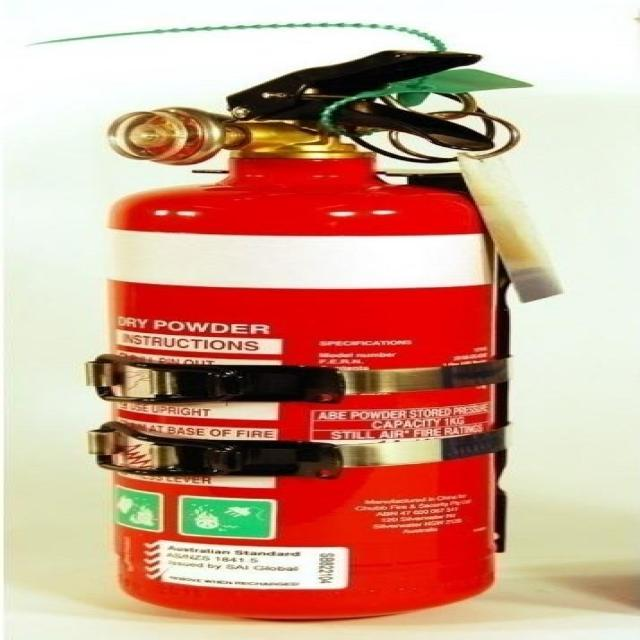fire_extinguisher: (66, 44, 579, 628)
